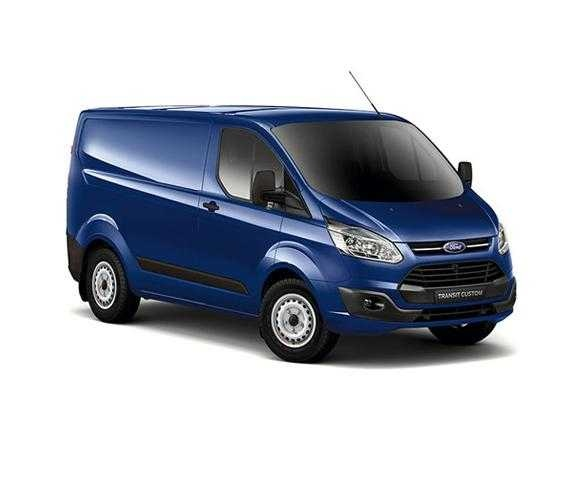van: (65, 105, 516, 364)
